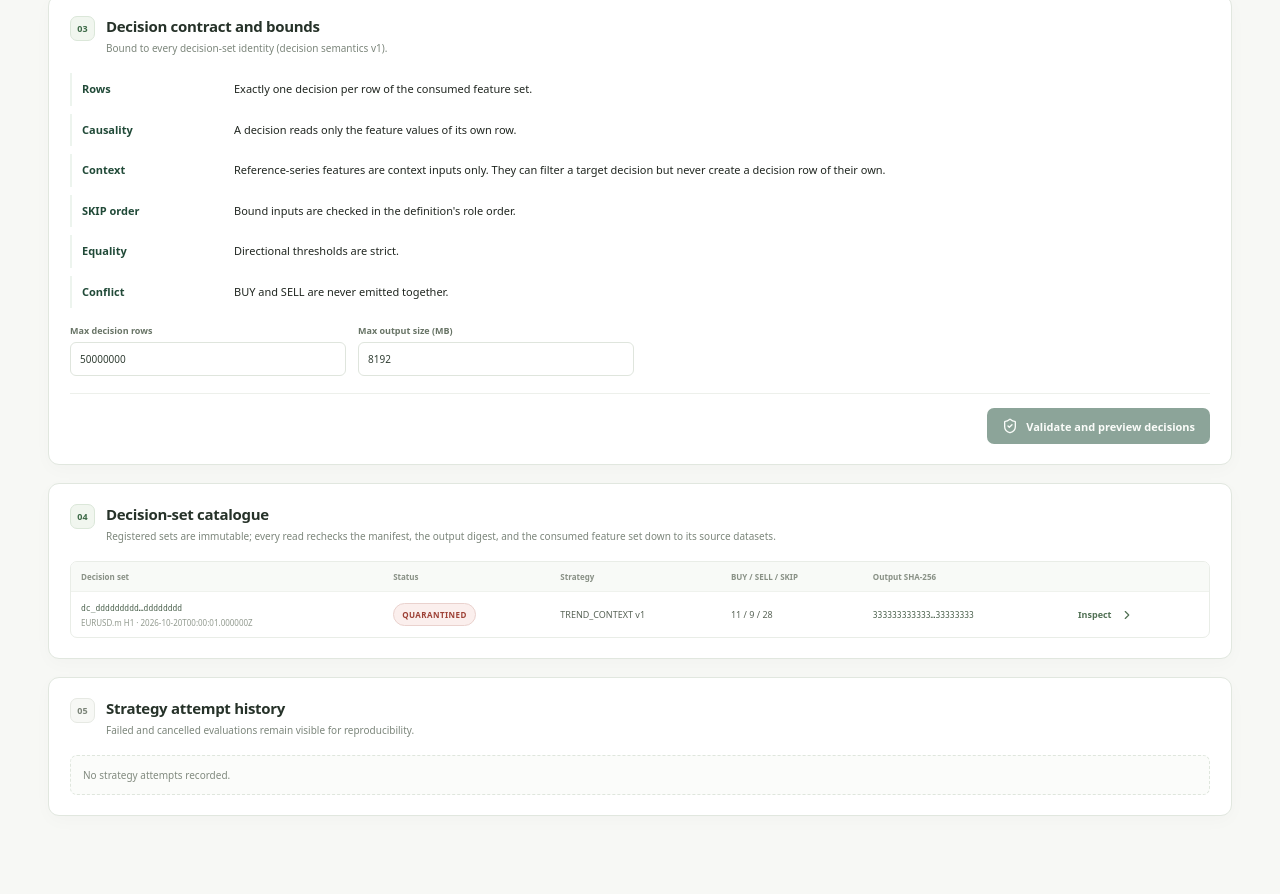
Scenario: gate desktop_strategy_ipc › explains why no feature set is usable and shows a revoked decision set as QUARANTINED
This screenshot has width=1280, height=894.
(page scrolled)
Expected: the button "Validate and preview decisions" is disabled, left=987, top=408, right=1210, bottom=444
Expected: the text "QUARANTINED" is shown, left=393, top=603, right=476, bottom=626
Click the button "Inspect". click: (1106, 615)
box: left=1070, top=601, right=1142, bottom=628
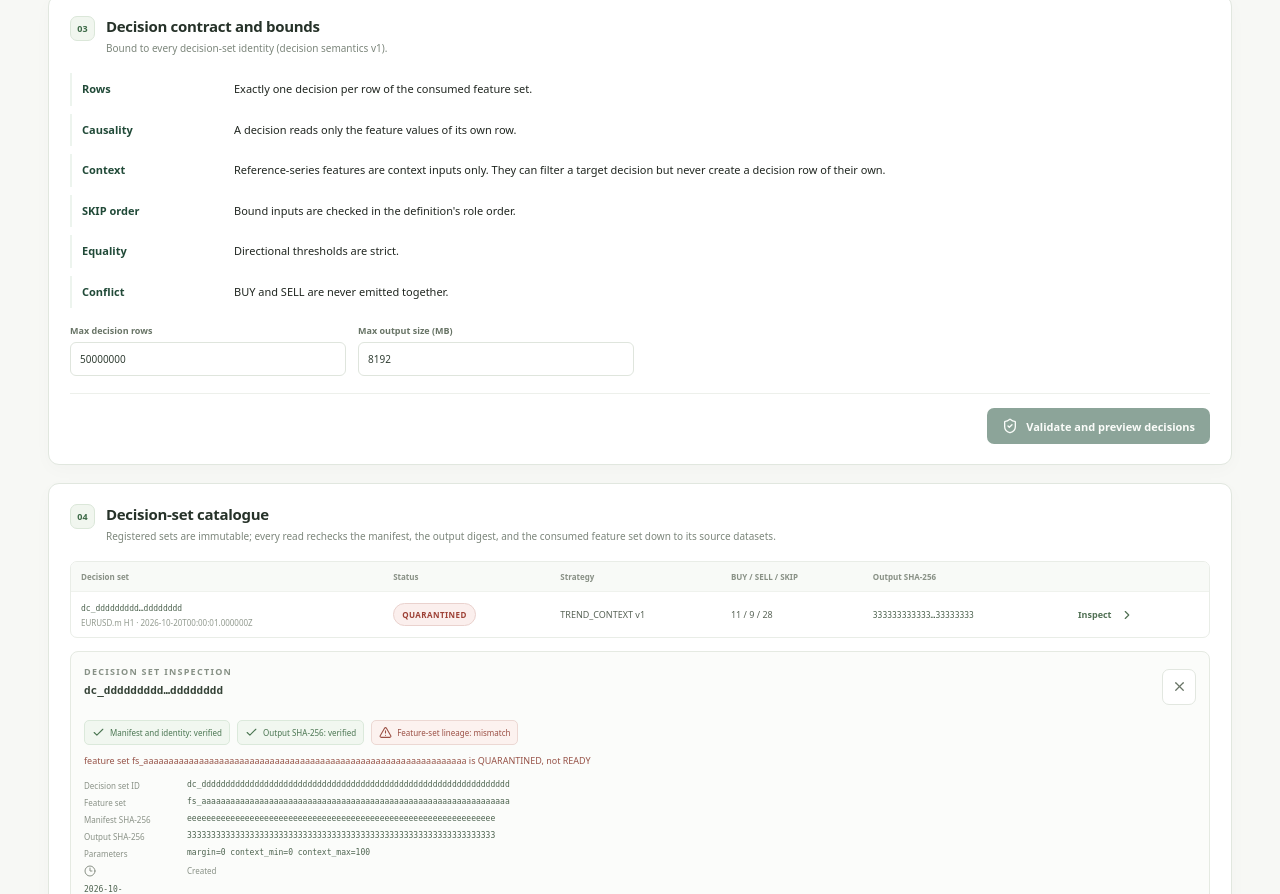
Result: the text "Feature-set lineage: mismatch" is shown at left=371, top=720, right=518, bottom=745
Result: the text "is QUARANTINED, not READY" is shown at left=84, top=754, right=591, bottom=767
